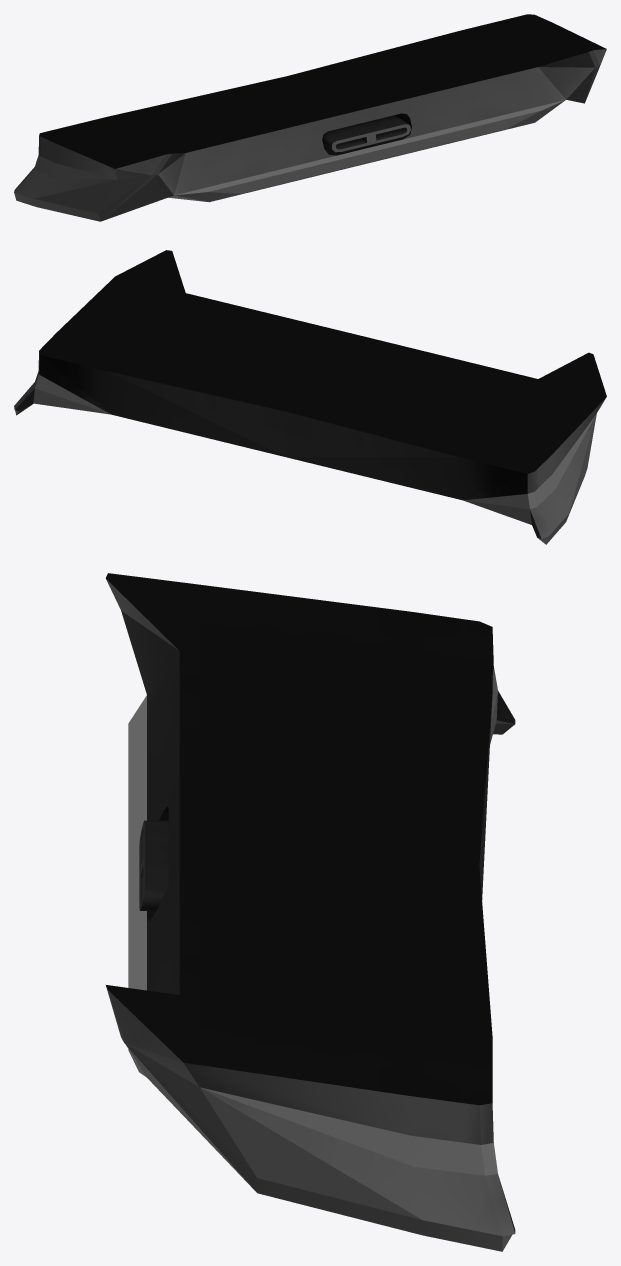
Rendered from Muscle_1_Bumper_Rear_3.fbx.
The picture shows the model from 3 angles, top to bottom: view 1: azimuth 30°, elevation 25°; view 2: azimuth 150°, elevation 25°; view 3: azimuth 270°, elevation 25°; orthographic projection. The views are drawn at different scales.
Visible parts, largest first — view 1: Muscle_1_Bumper_Rear_3; view 2: Muscle_1_Bumper_Rear_3; view 3: Muscle_1_Bumper_Rear_3.
Boxes of the visible parts, x1=… form: Muscle_1_Bumper_Rear_3: x1=14, y1=14, x2=606, y2=221; Muscle_1_Bumper_Rear_3: x1=14, y1=250, x2=606, y2=544; Muscle_1_Bumper_Rear_3: x1=105, y1=573, x2=515, y2=1251.
Bounding box in the file's own units: 151 × 28.53 × 50.03.
